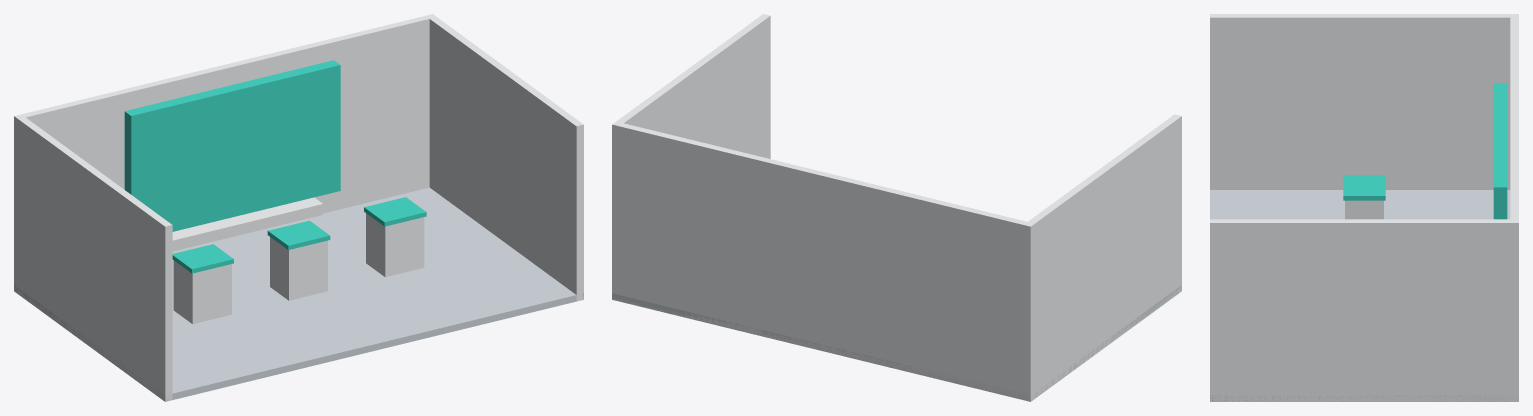
3 views of the same model, side by side, from view 1: azimuth 30°, elevation 25°; view 2: azimuth 150°, elevation 25°; view 3: azimuth 270°, elevation 25° (orthographic). The views are drawn at different scales.
Visible parts, largest first — view 1: Exhibition Booth Concept; view 2: Exhibition Booth Concept; view 3: Exhibition Booth Concept.
Part boxes in pixels (x1,y1,x2,y2): Exhibition Booth Concept: (14,14,583,401); Exhibition Booth Concept: (612,14,1181,401); Exhibition Booth Concept: (1210,14,1518,401).
Bounding box in the file's own units: 8 × 3.2 × 5.
